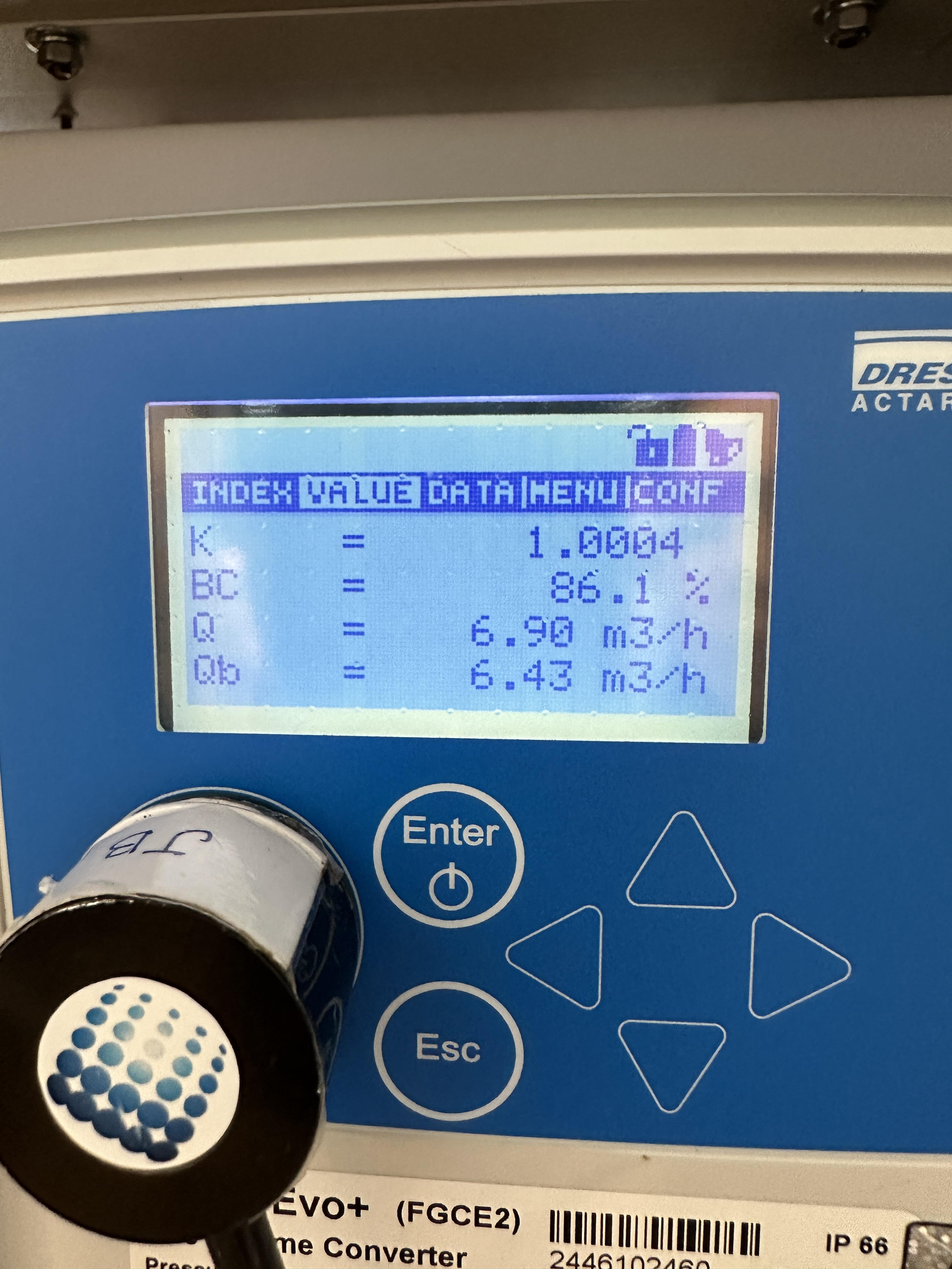digital_screen: (164, 413, 766, 749)
